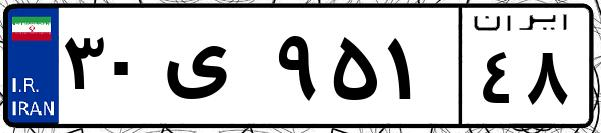0: (110, 28, 158, 98)
1: (385, 28, 445, 110)
3: (57, 26, 110, 100)
4: (475, 38, 525, 113)
5: (330, 28, 385, 110)
8: (525, 38, 570, 115)
9: (270, 28, 330, 110)
ی: (158, 20, 270, 120)
